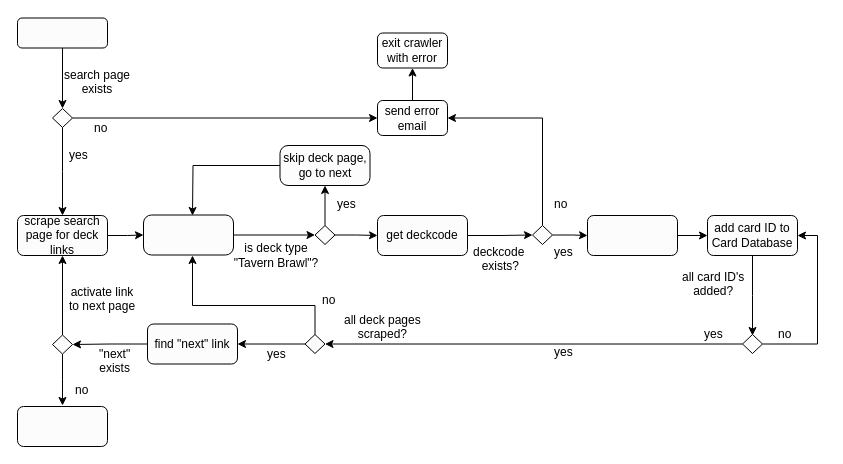
This 843x464 diagram has some shape labels left out. The shapes that lost their labels are listed below. From the top down, each one's centre as x and y in pixels, then its label:
At (62,32): "run crawler".
At (188,234): "scrape deck page".
At (632,235): "parse deckcode into card IDs".
At (62,426): "exit crawler, crawl complete".
